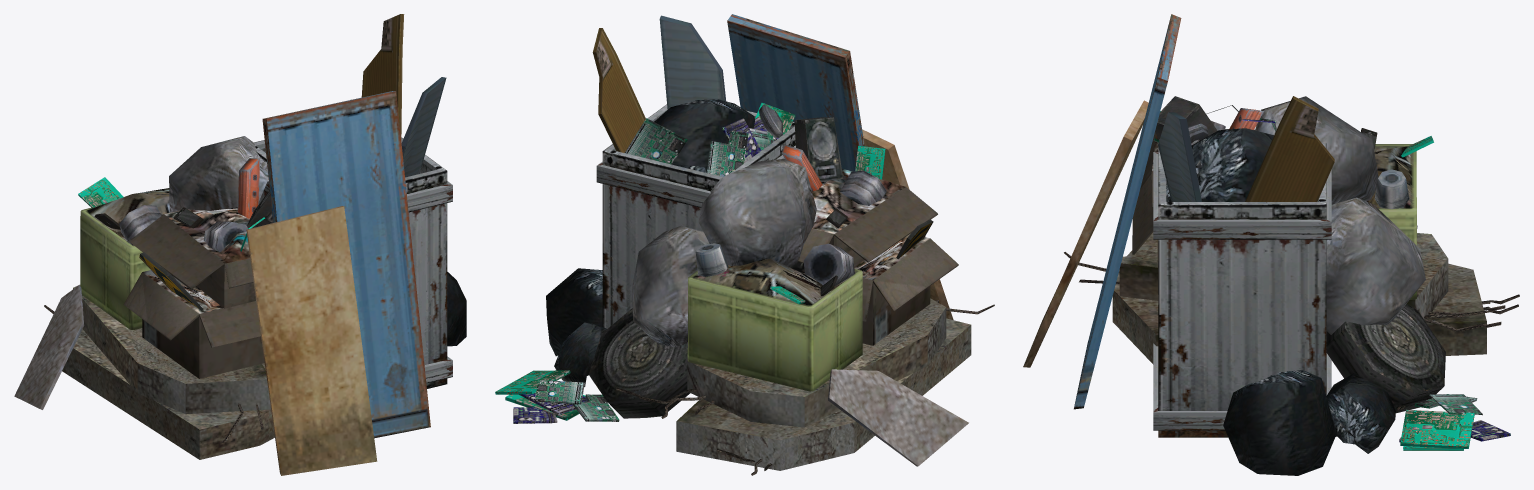
Rendered from Prop_Garbage01_v2_lod1.glb.
The picture shows the model from 3 angles, left to right: view 1: azimuth 30°, elevation 25°; view 2: azimuth 150°, elevation 25°; view 3: azimuth 270°, elevation 25°; orthographic projection. The views are drawn at different scales.
Visible parts, largest first — view 1: garbage_01_lod1; view 2: garbage_01_lod1; view 3: garbage_01_lod1.
Part boxes in pixels (x1,y1,x2,y2): garbage_01_lod1: (14, 14, 466, 475); garbage_01_lod1: (495, 14, 994, 475); garbage_01_lod1: (1023, 14, 1519, 475).
Bounding box in the file's own units: 3.02 × 2.26 × 2.85.
Materials: 1 (1 with a texture image).
